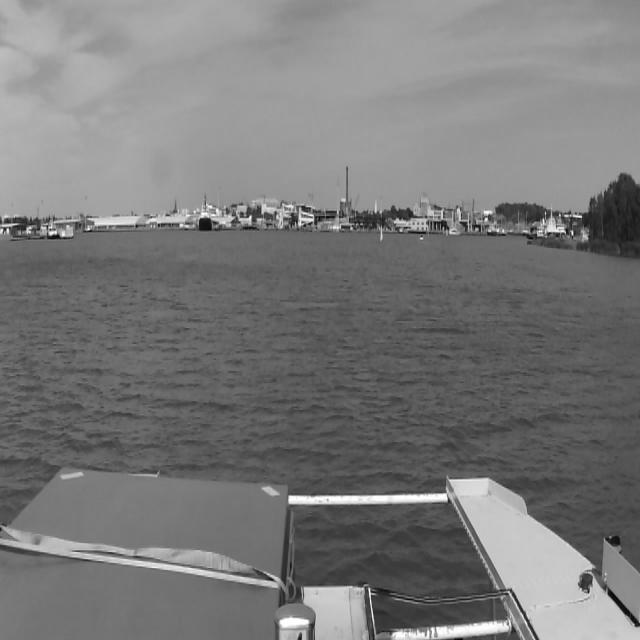buoy: (379, 224, 383, 242)
ship: (173, 200, 241, 231), (198, 196, 210, 226), (419, 236, 424, 240)
